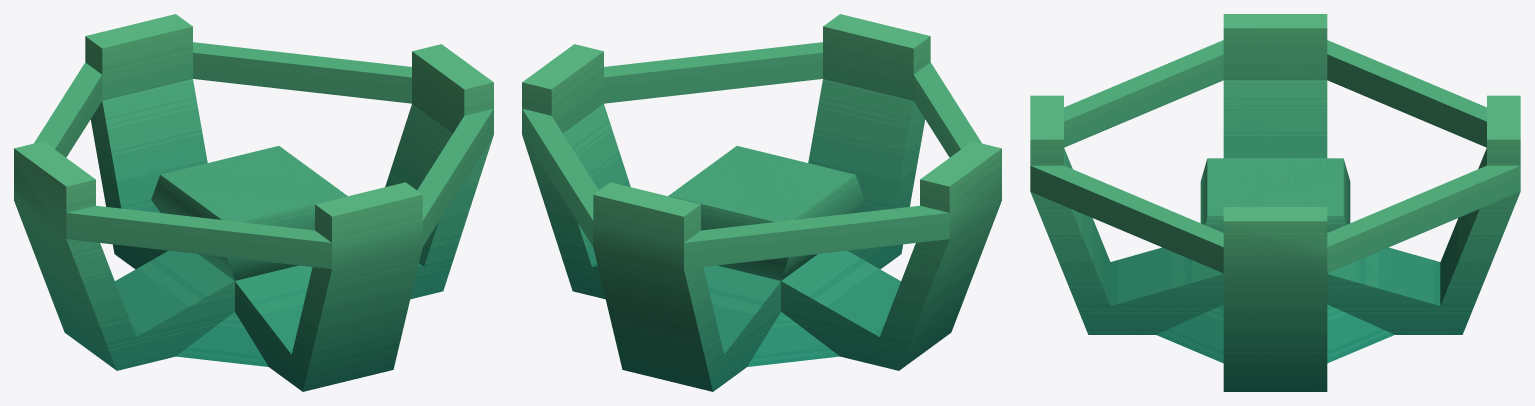
The model's file is fire-basket.glb.
The picture shows the model from 3 angles, left to right: view 1: azimuth 30°, elevation 25°; view 2: azimuth 150°, elevation 25°; view 3: azimuth 270°, elevation 25°; orthographic projection.
Visible parts, largest first — view 1: fire-basket; view 2: fire-basket; view 3: fire-basket.
Boxes of the visible parts, x1,y1,x2,y2 form: fire-basket: [14, 14, 493, 391]; fire-basket: [522, 14, 1001, 391]; fire-basket: [1030, 14, 1520, 391].
Bounding box in the file's own units: 0.8194 × 0.36 × 0.8194.
1 material, 1 textured.
